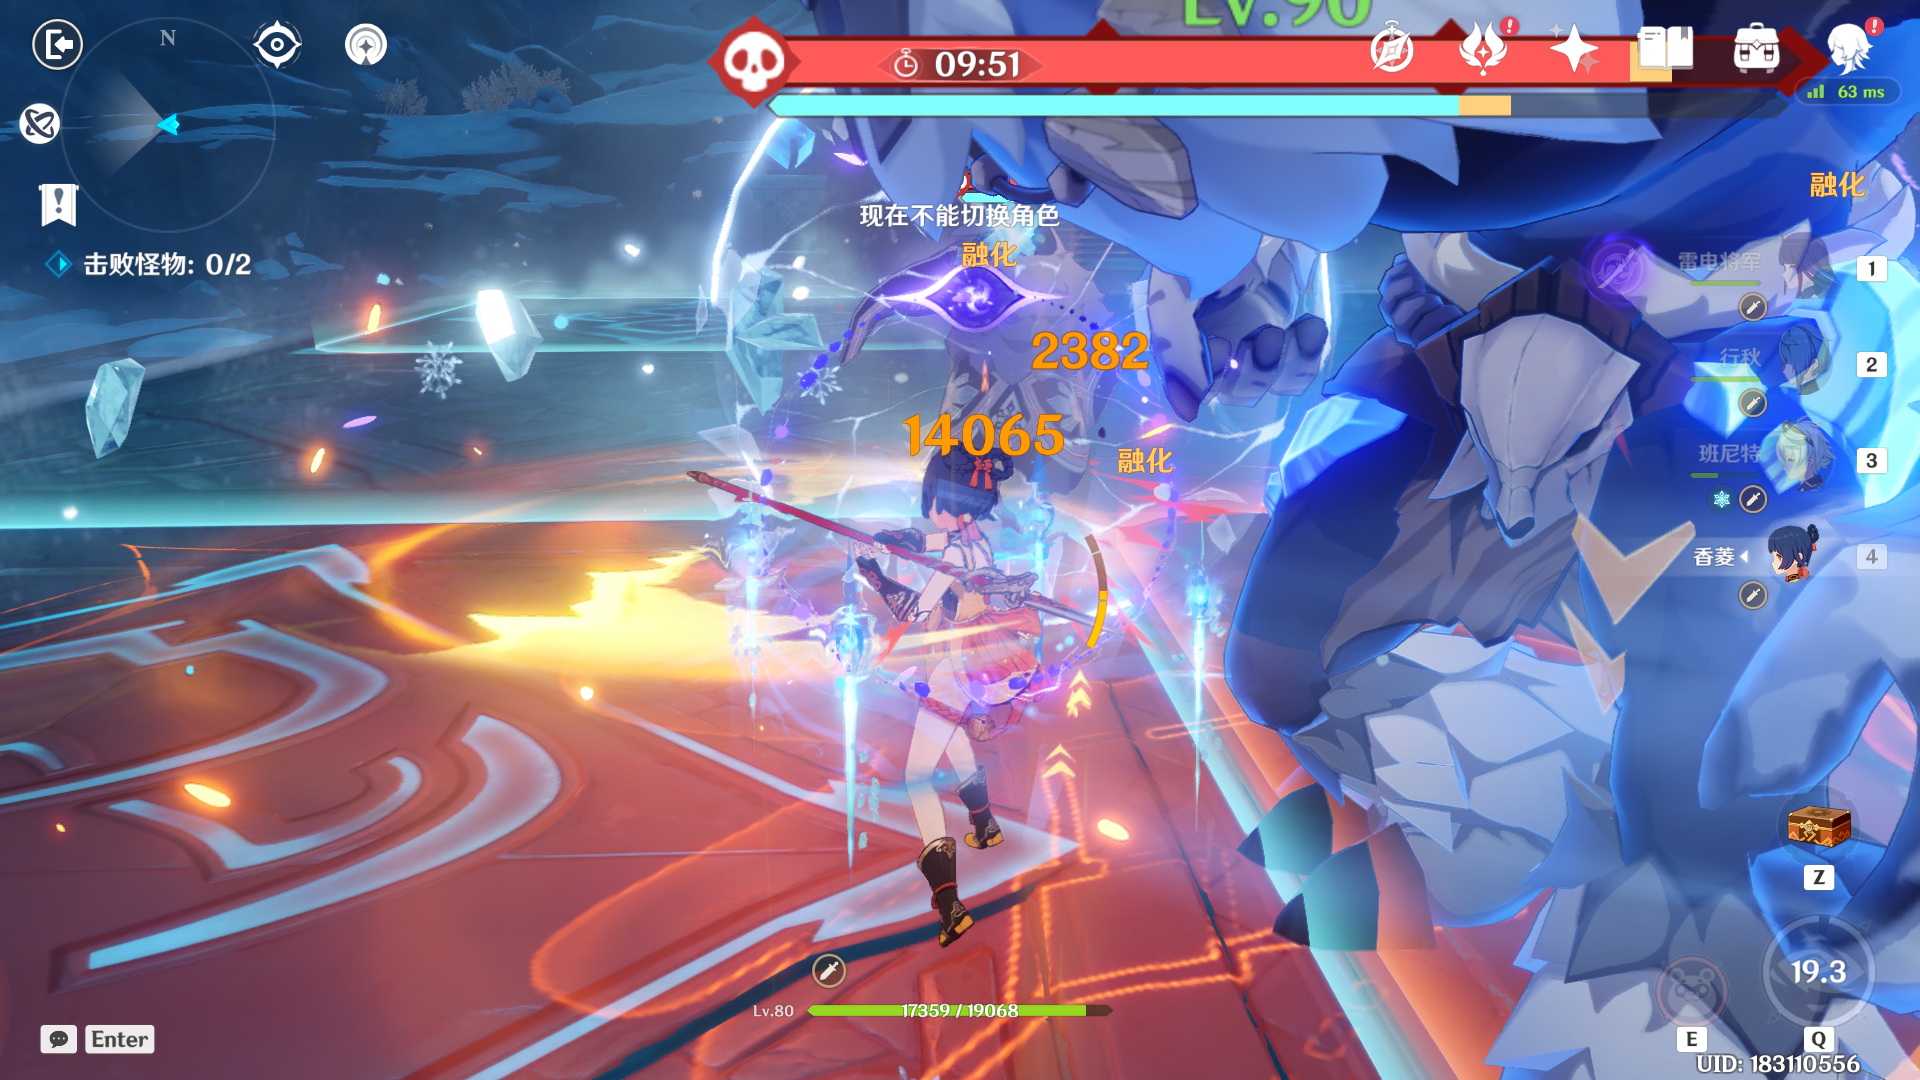bosshili: (804, 9, 1920, 1080)
caster: (898, 178, 1164, 535)
character: (746, 400, 1095, 944)
